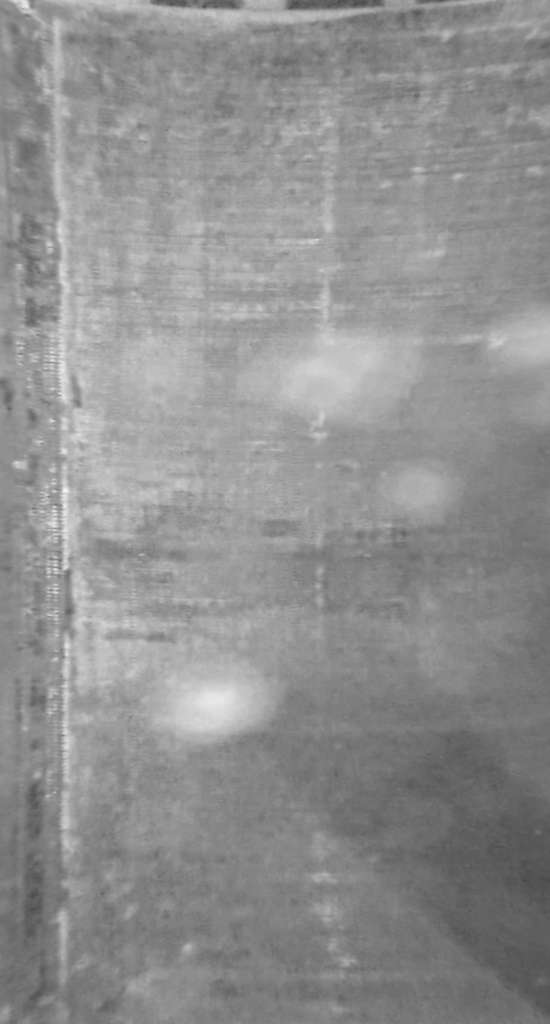splice: (1, 3, 77, 1024)
